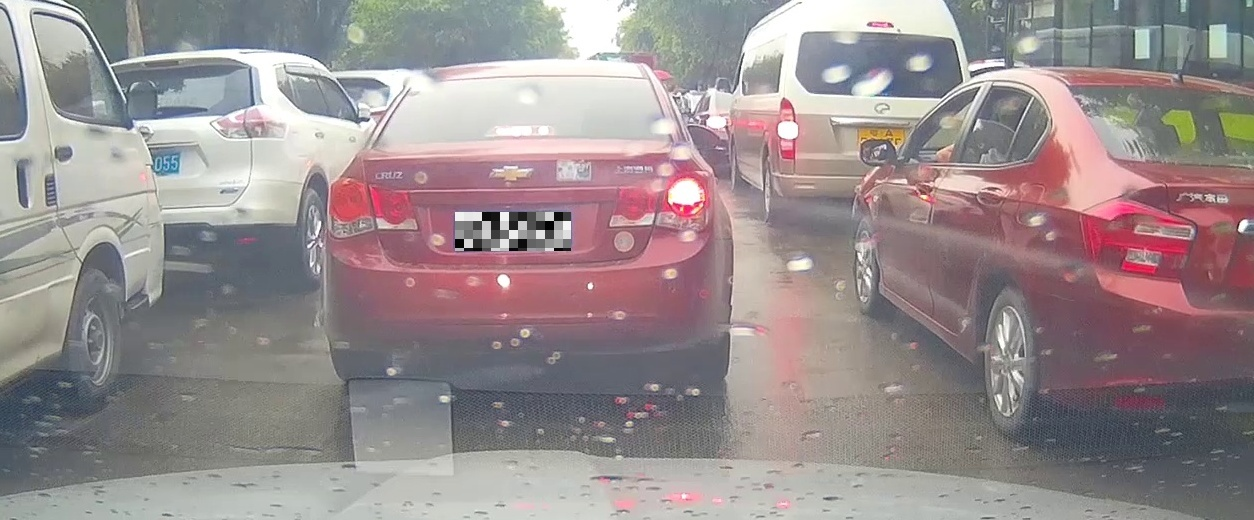L_light: (326, 177, 420, 240)
R_light: (607, 170, 711, 232)
T_light: (487, 124, 553, 137)
day-right: (325, 58, 731, 384)
plate_1: (455, 212, 571, 251)
